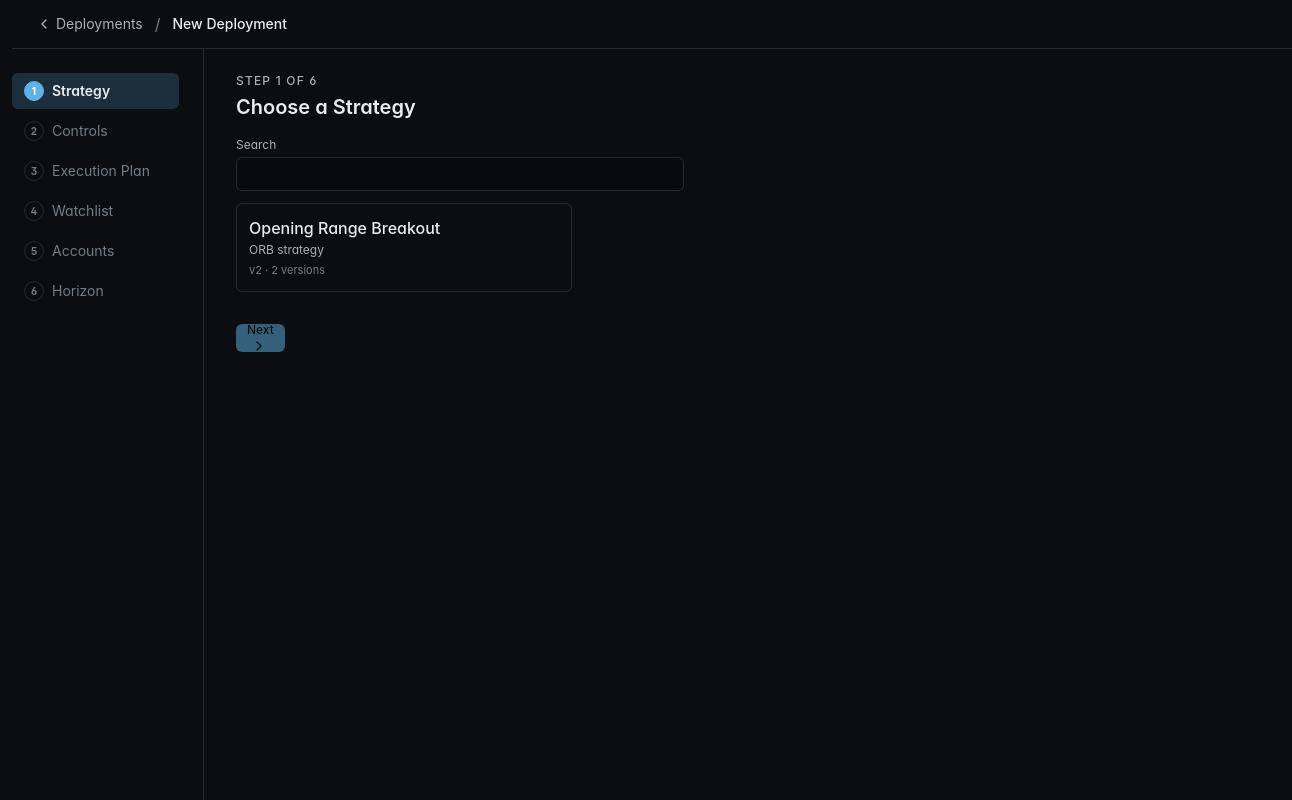
Test: <NewDeploymentScreen /> › Next button is disabled on Step 1 until a strategy is selected
Expected: the button "Next" is disabled, x1=236 y1=324 x2=285 y2=352
# Select strategy
Click the text "Opening Range Breakout": (345, 228) x1=249 y1=218 x2=440 y2=238
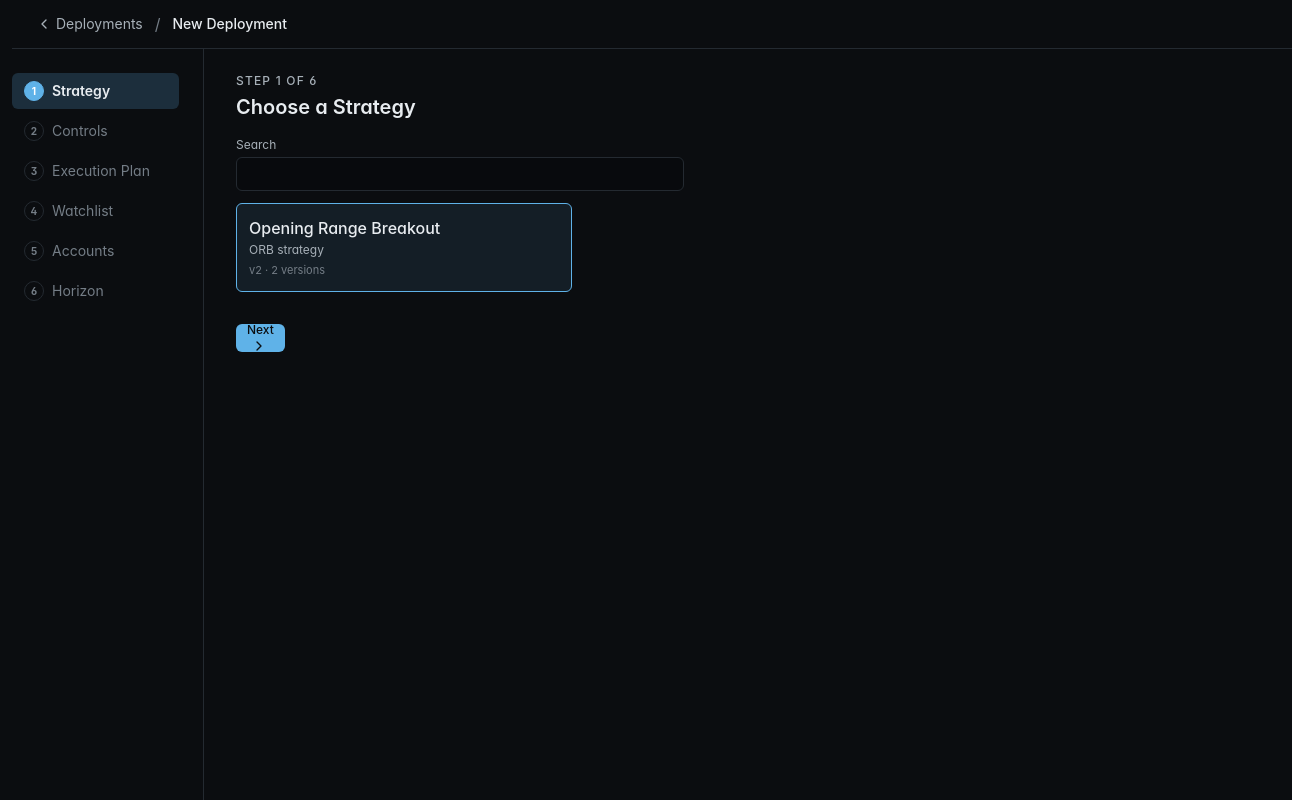
Result: the button "Next" is enabled at x1=236 y1=324 x2=285 y2=352
